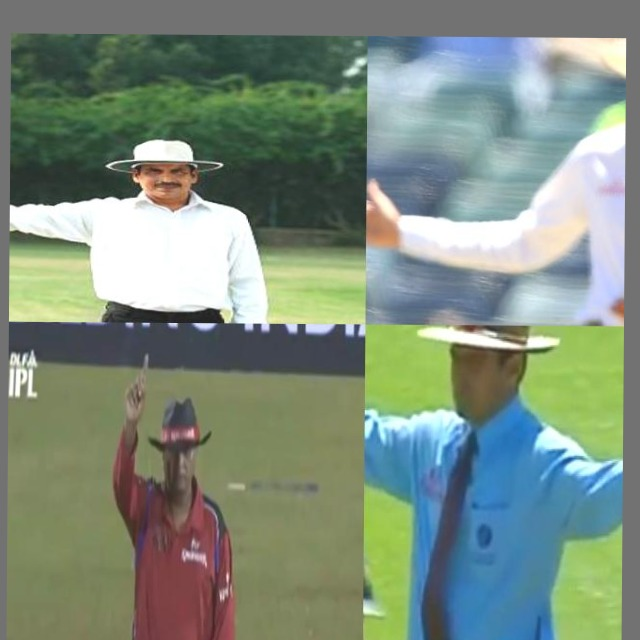No_Ball: (365, 36, 626, 326), (9, 123, 275, 324)
Out: (96, 340, 249, 640)
Wide: (363, 324, 624, 640)
